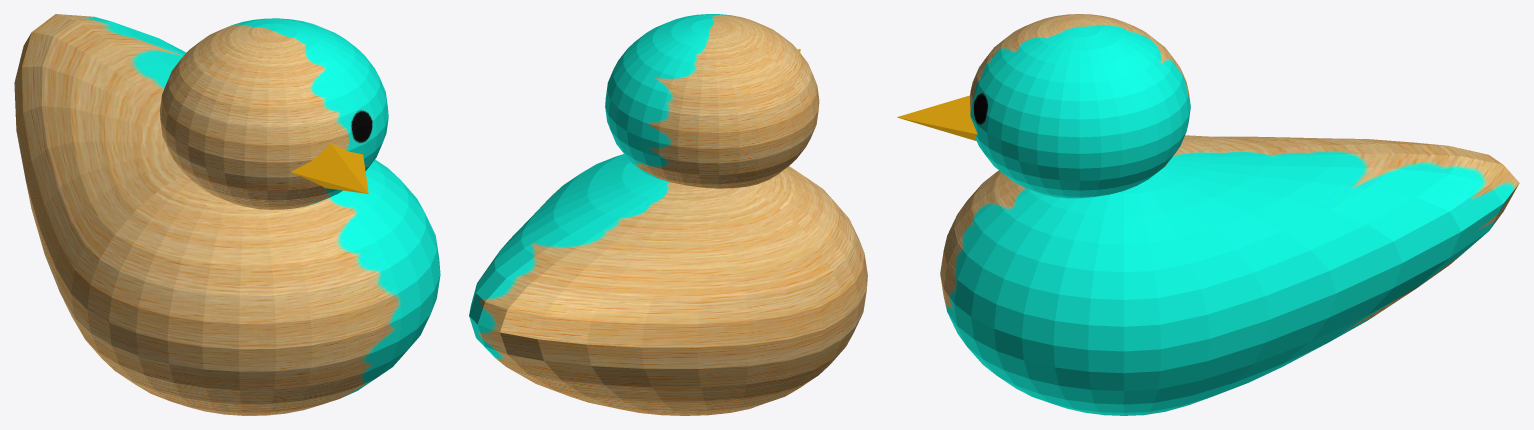
File: map_objects_bird.fbx
The picture shows the model from 3 angles, left to right: view 1: azimuth 30°, elevation 25°; view 2: azimuth 150°, elevation 25°; view 3: azimuth 270°, elevation 25°; orthographic projection. The views are drawn at different scales.
Visible parts, largest first — view 1: 球; view 2: 球; view 3: 球.
Boxes of the visible parts, x1=… form: 球: x1=14, y1=14, x2=440, y2=415; 球: x1=469, y1=14, x2=867, y2=415; 球: x1=897, y1=14, x2=1519, y2=415.
Size of the model in its own units: 200 by 220 by 339.
Materials: 2 (1 with a texture image).
